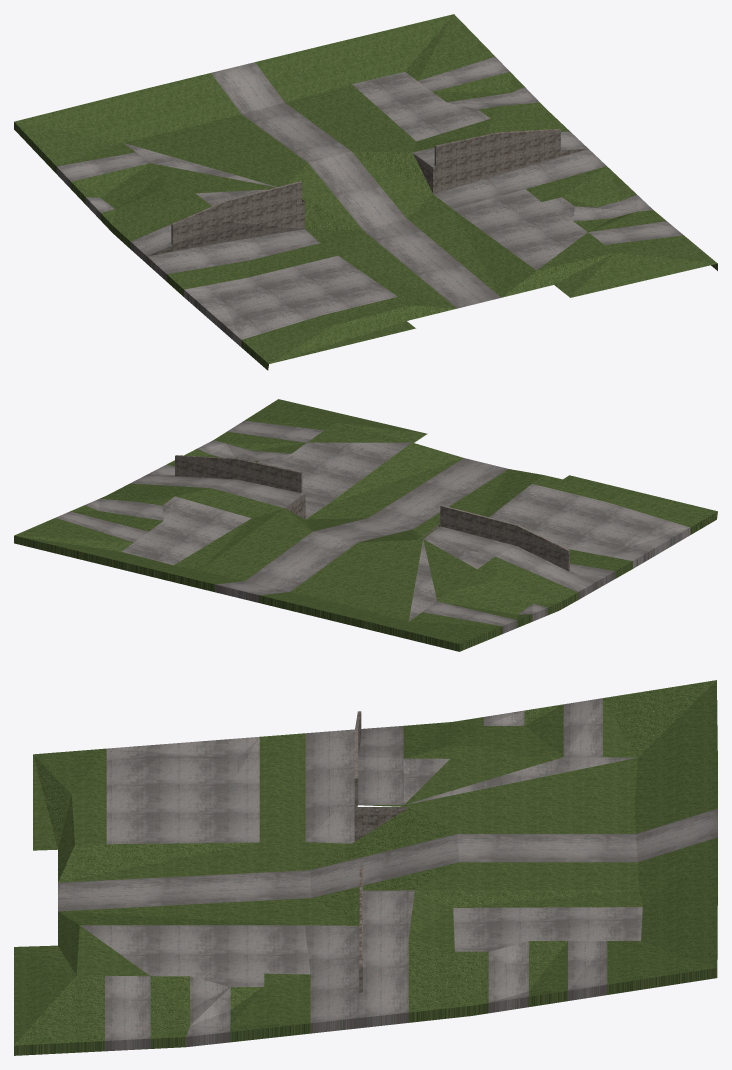
Rendered from vineblock2_lawn.obj.
3 views of the same model, one above another, from view 1: azimuth 30°, elevation 25°; view 2: azimuth 150°, elevation 25°; view 3: azimuth 270°, elevation 25° (orthographic). The views are drawn at different scales.
Visible parts, largest first — view 1: VineBlock2_LAwN; view 2: VineBlock2_LAwN; view 3: VineBlock2_LAwN.
Part boxes in pixels (x1,y1,x2,y2): VineBlock2_LAwN: (14,14,717,370); VineBlock2_LAwN: (14,399,717,651); VineBlock2_LAwN: (14,680,717,1055).
Size of the model in its own units: 60.15 by 8.76 by 61.92.
